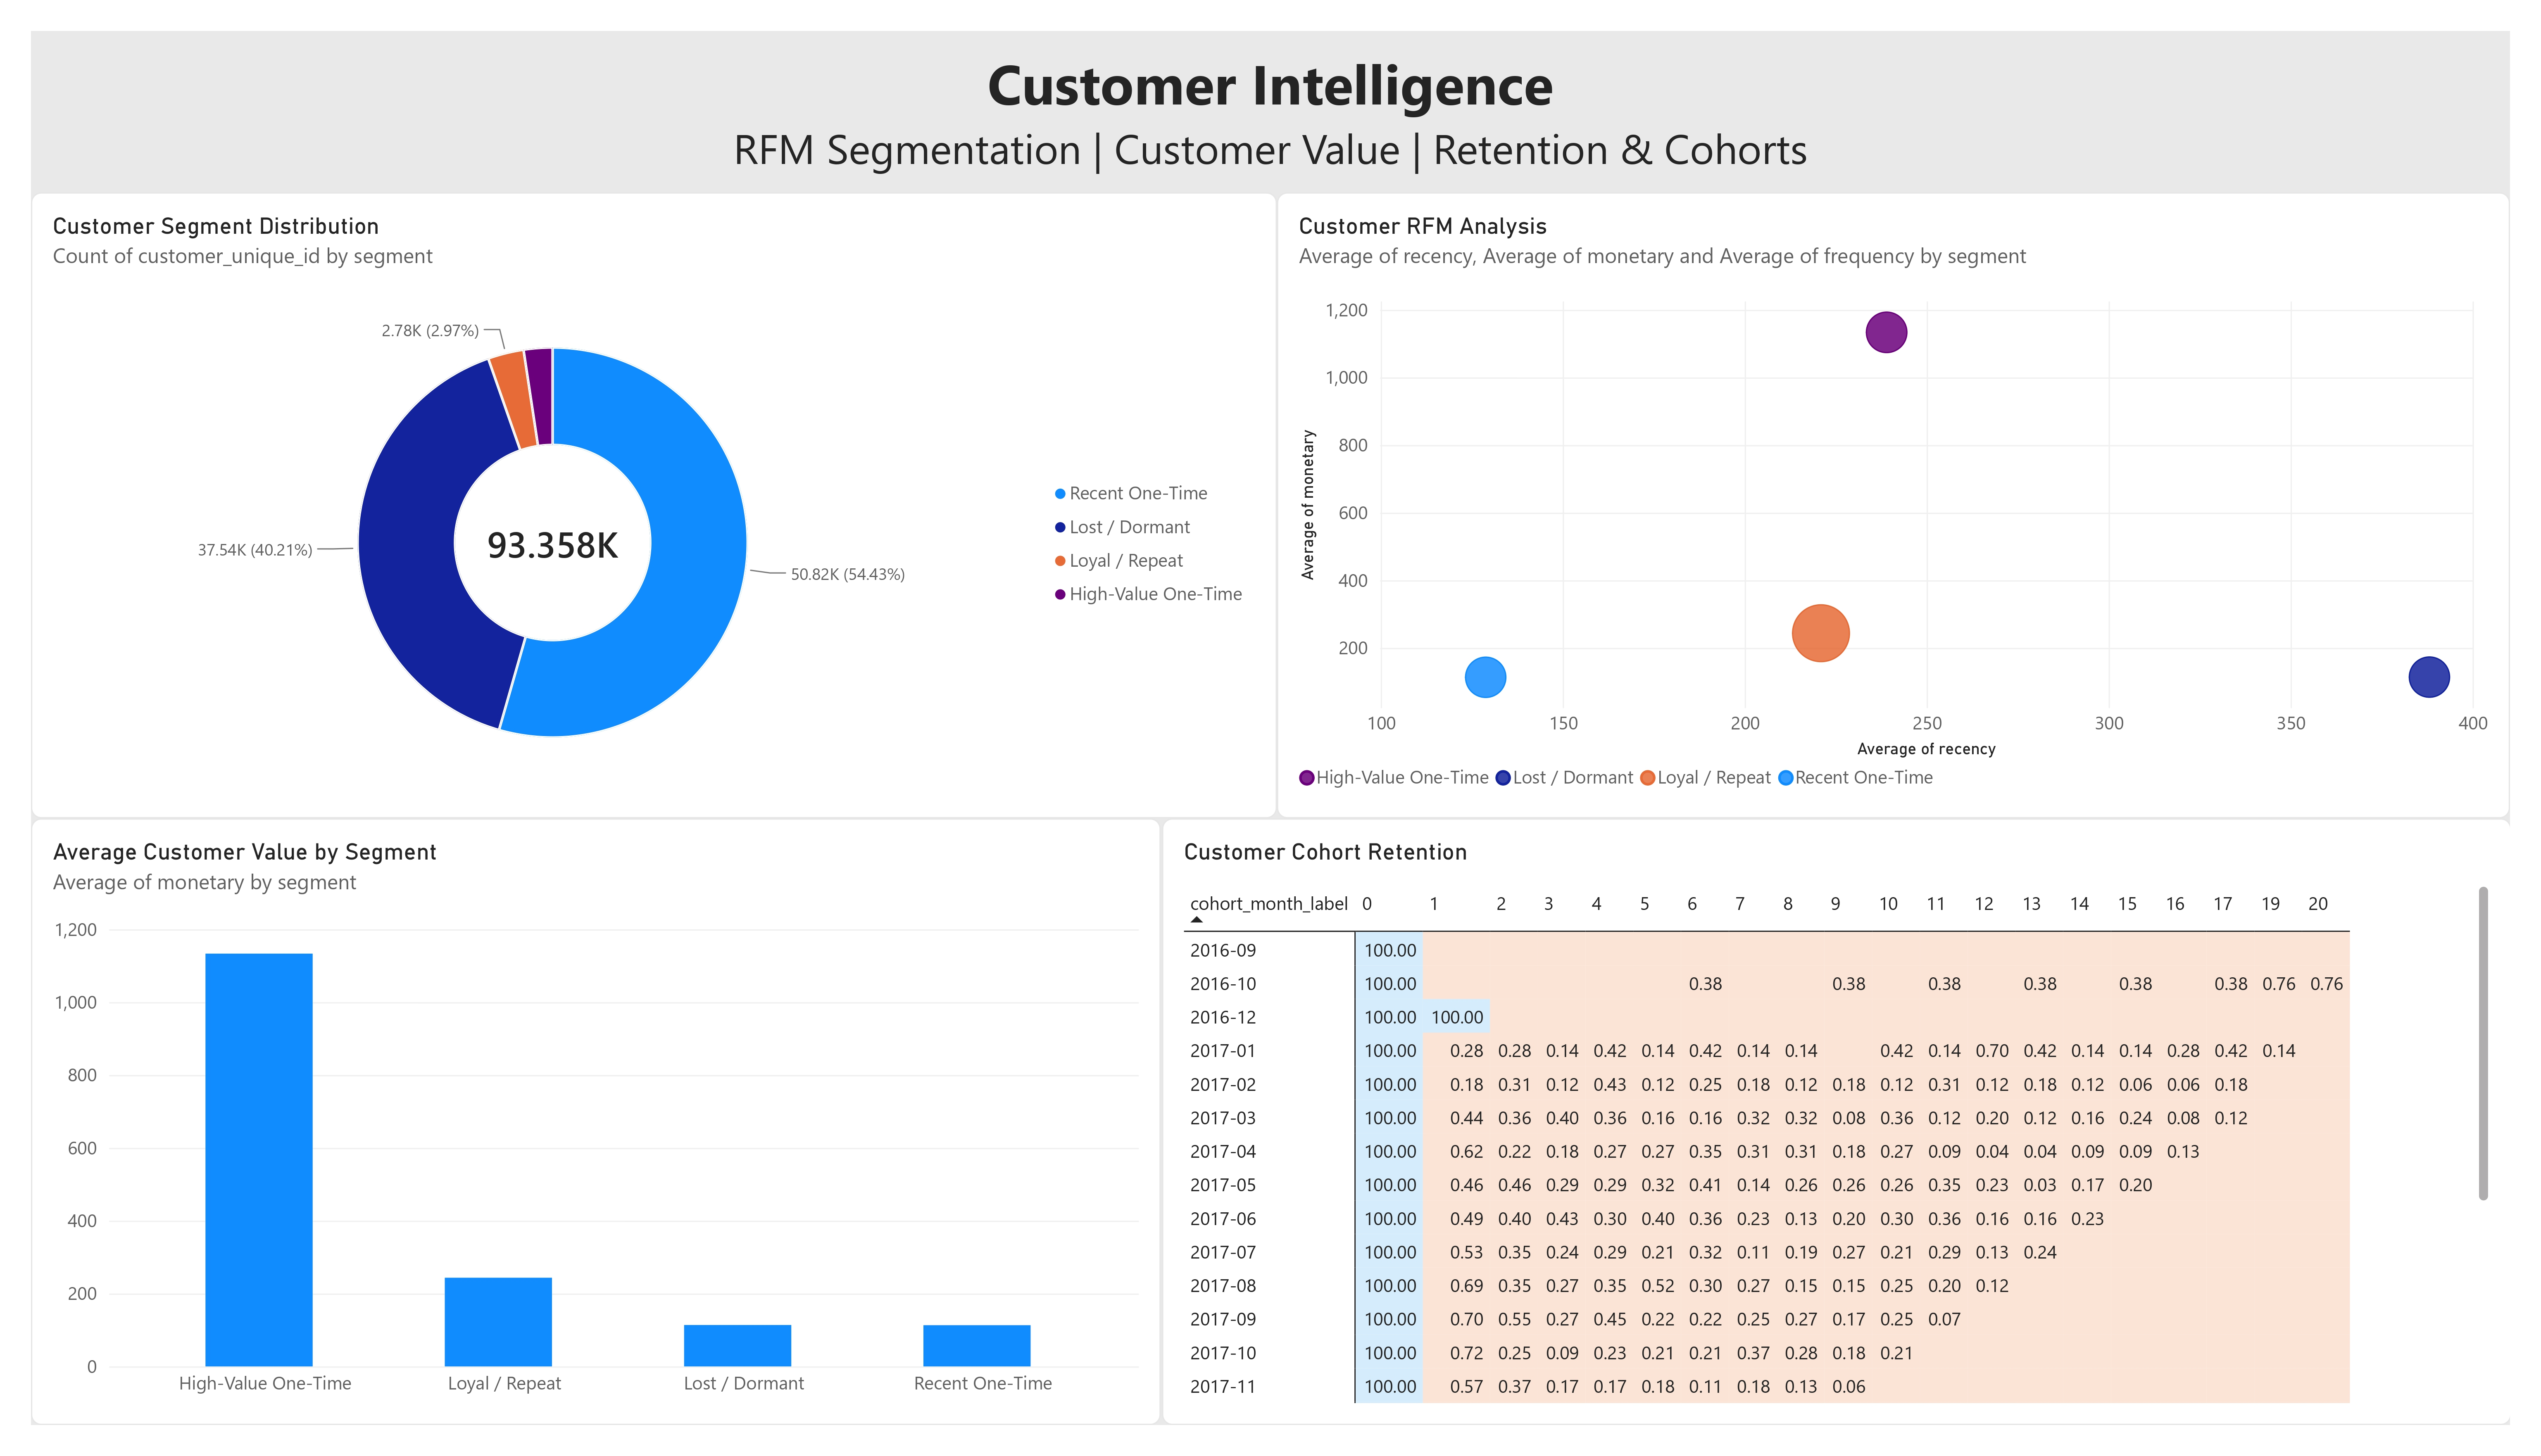

What the dashboard file says about the page in this screenshot:
{"tool":"powerbi","page":{"name":"Customer Intelligence","canvas":[1920,1080],"ordinal":2},"visuals":[{"type":"donutChart","title":"Customer Segment Distribution","fields":{"Category":["analytics pbi_customer_segments.segment"],"Y":["CountNonNull(analytics pbi_customer_segments.customer_unique_id)"]},"box":[0,125,965,485],"z":0},{"type":"clusteredColumnChart","title":"Average Customer Value by Segment","fields":{"Category":["analytics pbi_customer_segments.segment"],"Y":["Avg(analytics pbi_customer_segments.monetary)"]},"box":[0,610,875,470],"z":1000},{"type":"scatterChart","title":"Customer RFM Analysis","fields":{"Series":["analytics pbi_customer_segments.segment"],"Size":["Avg(analytics pbi_customer_segments.frequency)"],"X":["Avg(analytics pbi_customer_segments.recency)"],"Y":["Avg(analytics pbi_customer_segments.monetary)"]},"box":[965,125,955,485],"z":2000},{"type":"pivotTable","title":"Customer Cohort Retention","fields":{"Columns":["analytics pbi_customer_cohort.cohort_month_number"],"Rows":["analytics pbi_customer_cohort.cohort_month_label"],"Values":["Avg(analytics pbi_customer_cohort.retention_rate)"]},"box":[875.9,609.9,1045,470],"z":3000},{"type":"textbox","box":[0,11.4,1920,112.9],"z":4000}]}

Visuals, with their boxes on the page's 1920x1080 design canvas (x1, y1, x2, y2). These are canvas units, not pixel positions in the 2541x1456 screenshot, which may show the page scaled, cropped or inside an application window:
"Customer Segment Distribution" donutChart: 0,125,965,610
"Average Customer Value by Segment" clusteredColumnChart: 0,610,875,1080
"Customer RFM Analysis" scatterChart: 965,125,1920,610
"Customer Cohort Retention" pivotTable: 876,610,1921,1080
textbox: 0,11,1920,124
